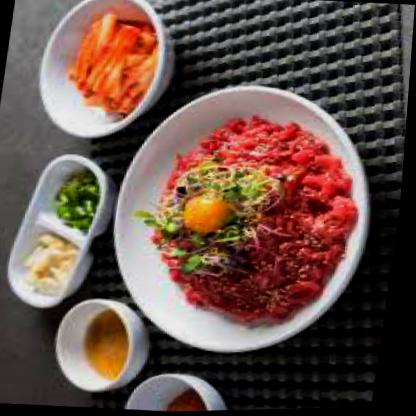Kimchi stew: (58, 8, 160, 119)
Korean style raw beef: (151, 119, 351, 325)
